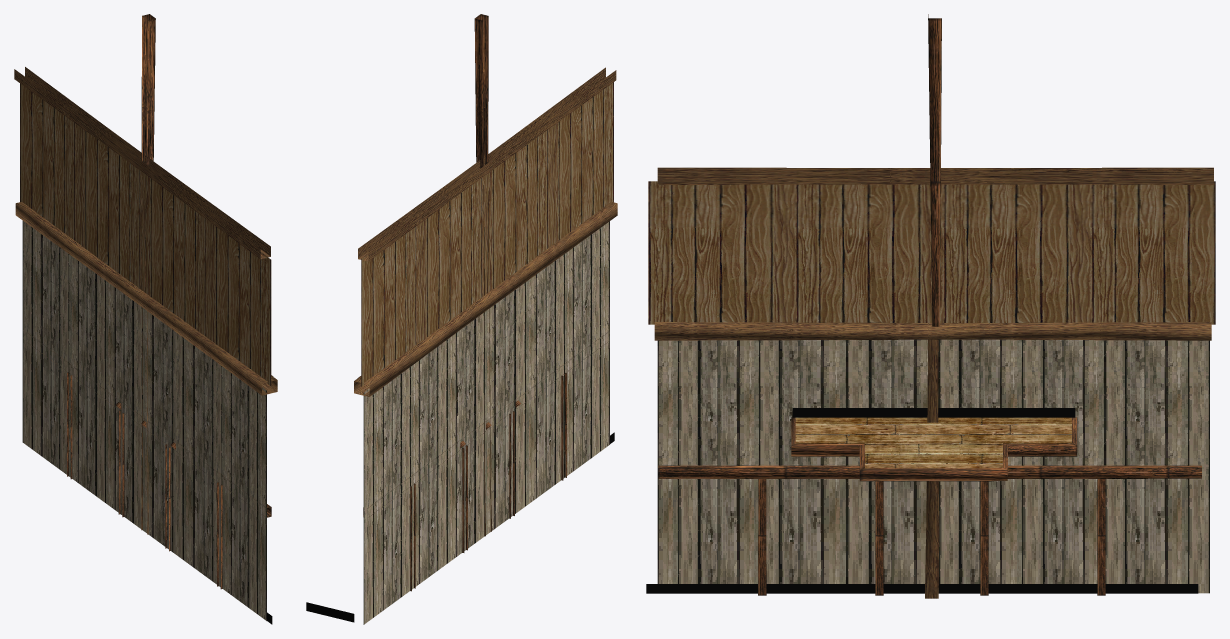
Rendered from LAKETOWN_WAREHOUSE1_PS_WH1_BACKWALL8487__GX.fbx.
The picture shows the model from 3 angles, left to right: view 1: azimuth 30°, elevation 25°; view 2: azimuth 150°, elevation 25°; view 3: azimuth 270°, elevation 25°; orthographic projection. The views are drawn at different scales.
Parts seen in each view (by area): view 1: LAKETOWN_WAREHOUSE1_PS_WH1_BACKWALL8487__GX; view 2: LAKETOWN_WAREHOUSE1_PS_WH1_BACKWALL8487__GX; view 3: LAKETOWN_WAREHOUSE1_PS_WH1_BACKWALL8487__GX.
Boxes of the visible parts, left/top/right/bottom form: LAKETOWN_WAREHOUSE1_PS_WH1_BACKWALL8487__GX: left=14, top=14, right=277, bottom=624; LAKETOWN_WAREHOUSE1_PS_WH1_BACKWALL8487__GX: left=306, top=14, right=617, bottom=624; LAKETOWN_WAREHOUSE1_PS_WH1_BACKWALL8487__GX: left=646, top=14, right=1215, bottom=598.
Size of the model in its own units: 38161 by 182549 by 162467.
7 materials, 7 textured.
